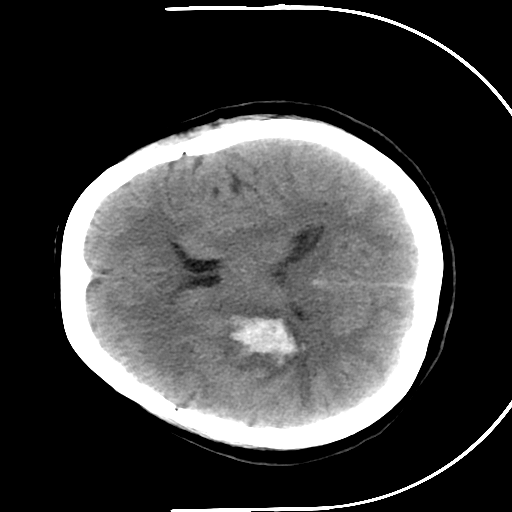a: (209, 297, 320, 415)
